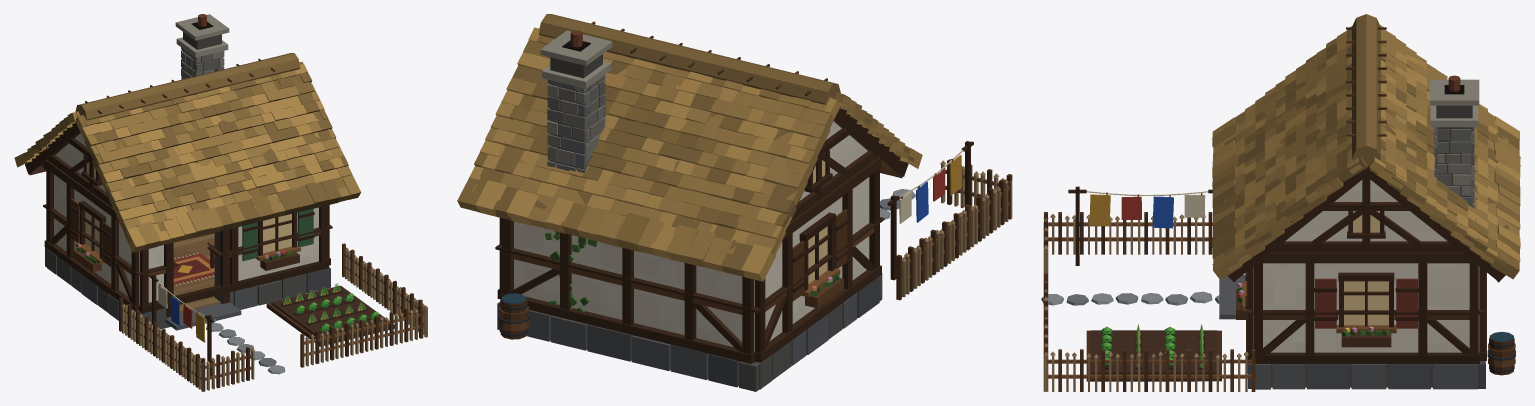
File: cottage-5.glb
3 views of the same model, side by side, from view 1: azimuth 30°, elevation 25°; view 2: azimuth 150°, elevation 25°; view 3: azimuth 270°, elevation 25° (orthographic). The views are drawn at different scales.
Visible parts, largest first — view 1: cottage-5_shell, cottage-5_interior, cottage-5_glass, cottage-5_cap; view 2: cottage-5_shell, cottage-5_interior, cottage-5_cap, cottage-5_glass; view 3: cottage-5_shell, cottage-5_interior, cottage-5_glass, cottage-5_cap.
Part boxes in pixels (left/top/right/bottom): cottage-5_shell: left=14, top=14, right=361, bottom=330; cottage-5_interior: left=119, top=233, right=427, bottom=391; cottage-5_glass: left=85, top=156, right=291, bottom=254; cottage-5_cap: left=43, top=204, right=332, bottom=275; cottage-5_shell: left=457, top=14, right=922, bottom=391; cottage-5_interior: left=498, top=141, right=1012, bottom=339; cottage-5_cap: left=495, top=217, right=884, bottom=312; cottage-5_glass: left=808, top=153, right=827, bottom=283; cottage-5_shell: left=1212, top=14, right=1520, bottom=389; cottage-5_interior: left=1041, top=186, right=1515, bottom=391; cottage-5_glass: left=1344, top=211, right=1388, bottom=325; cottage-5_cap: left=1246, top=272, right=1485, bottom=314.
Bounding box in the file's own units: 7.3 × 6.92 × 10.62.
